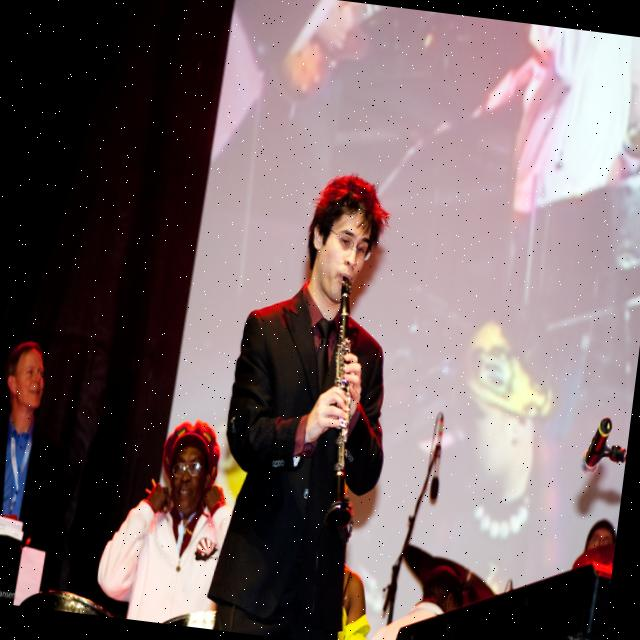clarinet: (300, 272, 387, 537)
